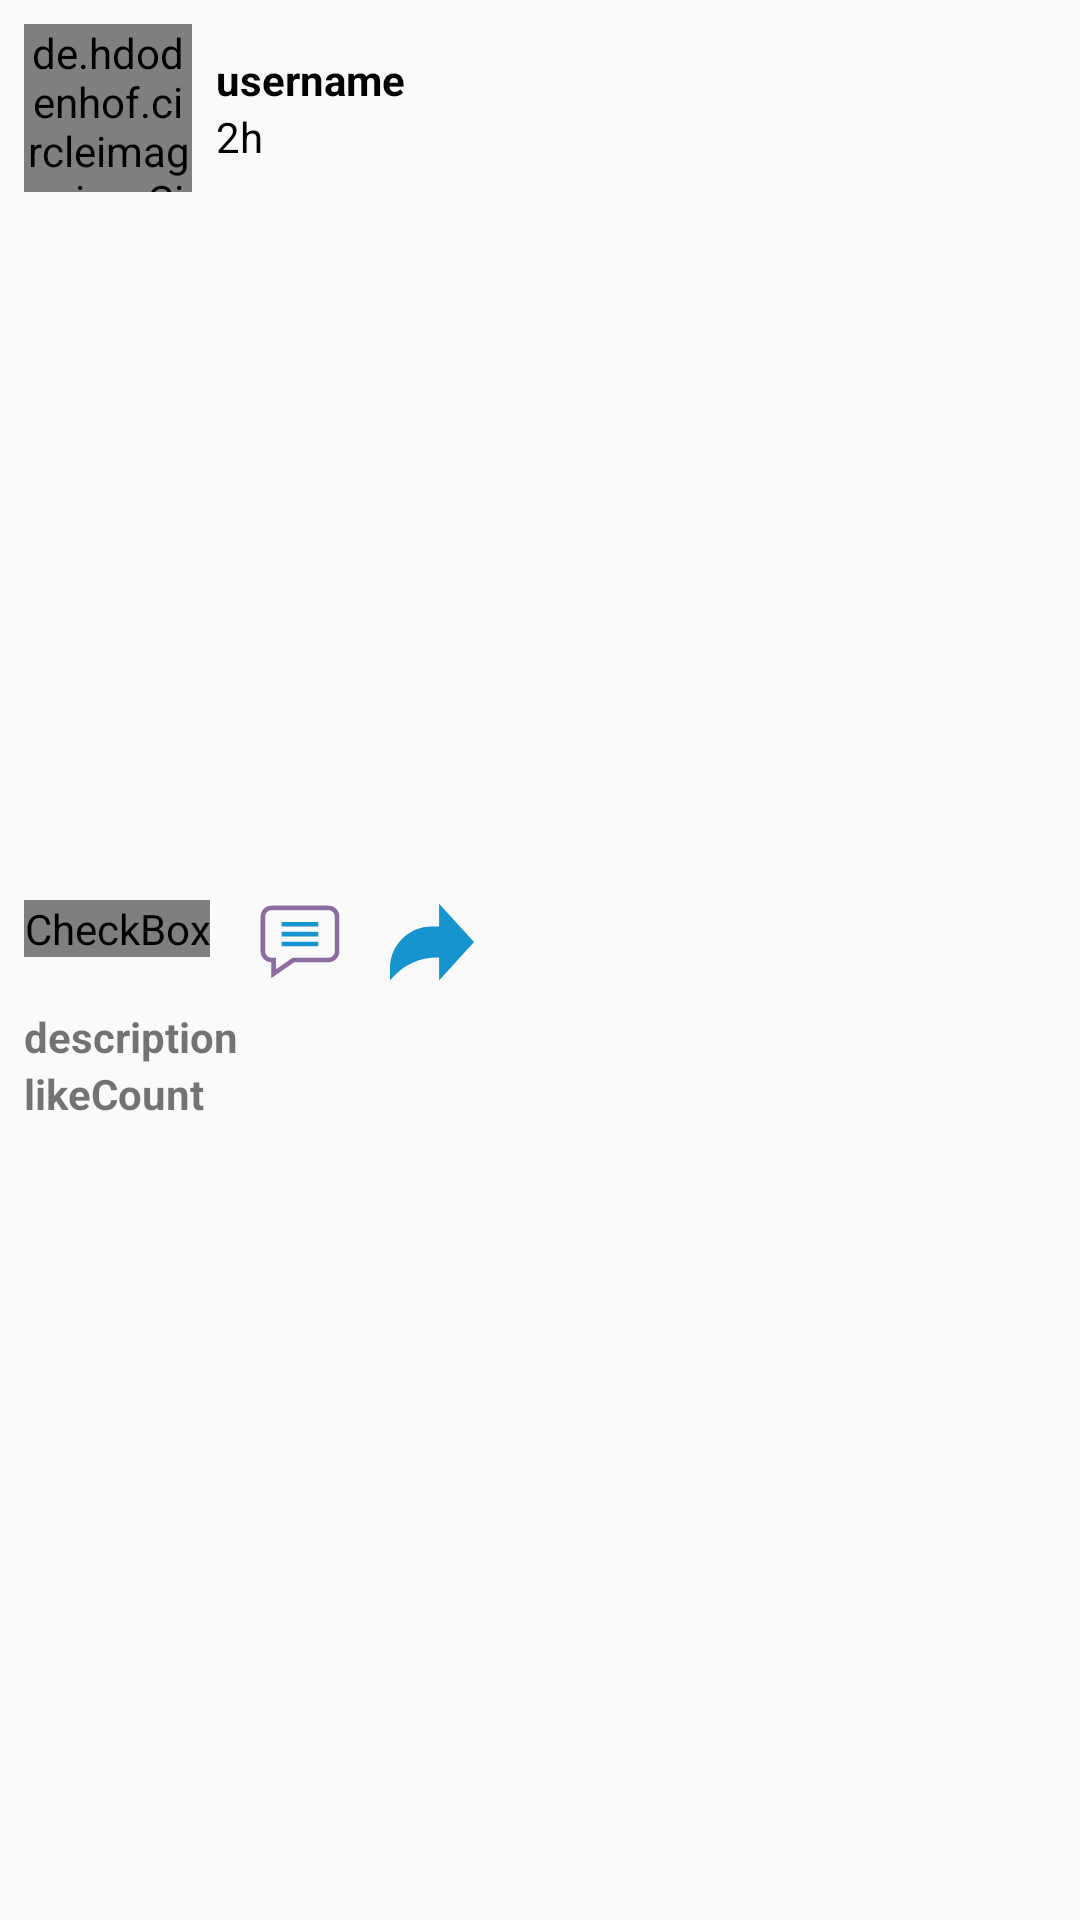

Icon click points for this 1080 × 1920 phone screenshot, format (x=x, y=y):
comment: (x=300, y=941)
share: (x=432, y=942)
